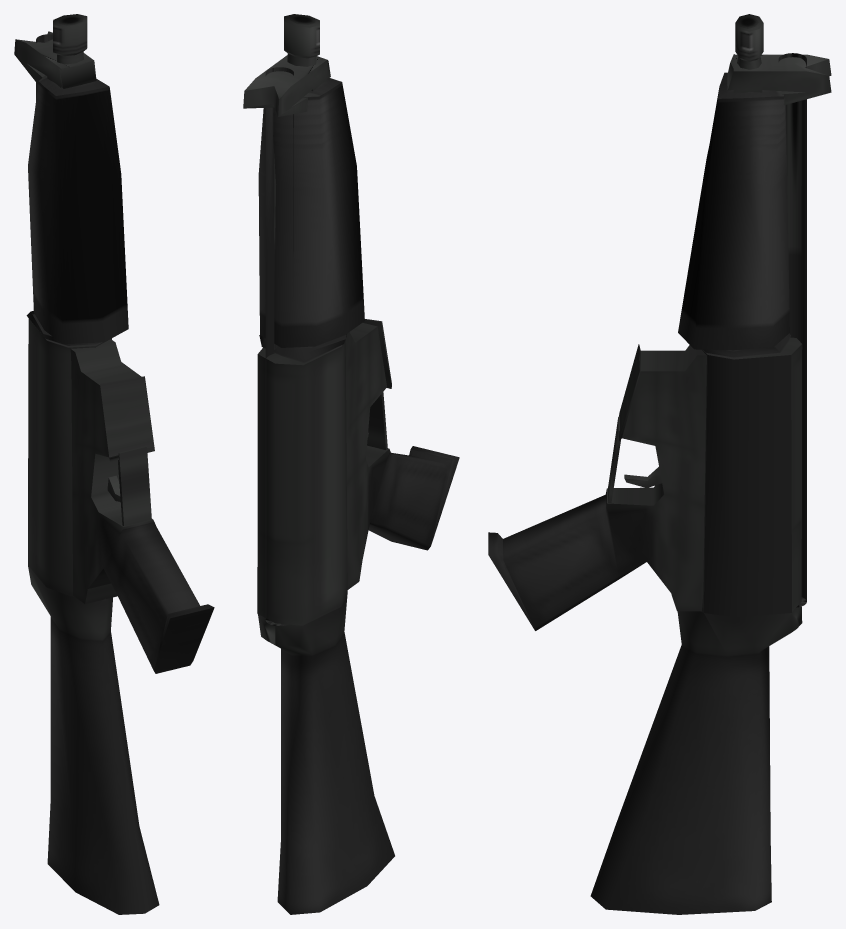
The model's file is MP5_NoMagazine.fbx.
3 renders of one model, left to right at view 1: azimuth 30°, elevation 25°; view 2: azimuth 150°, elevation 25°; view 3: azimuth 270°, elevation 25°, orthographic. The views are drawn at different scales.
Visible parts, largest first — view 1: node_9dd0f6f6_31ed_4a20_9721_c0e673ea2e27_mesh0; view 2: node_9dd0f6f6_31ed_4a20_9721_c0e673ea2e27_mesh0; view 3: node_9dd0f6f6_31ed_4a20_9721_c0e673ea2e27_mesh0.
Part boxes in pixels (x1=…): node_9dd0f6f6_31ed_4a20_9721_c0e673ea2e27_mesh0: x1=14, y1=14, x2=214, y2=914; node_9dd0f6f6_31ed_4a20_9721_c0e673ea2e27_mesh0: x1=243, y1=14, x2=459, y2=914; node_9dd0f6f6_31ed_4a20_9721_c0e673ea2e27_mesh0: x1=488, y1=14, x2=831, y2=914.
Bounding box in the file's own units: 0.0308 × 0.3675 × 0.1298.
